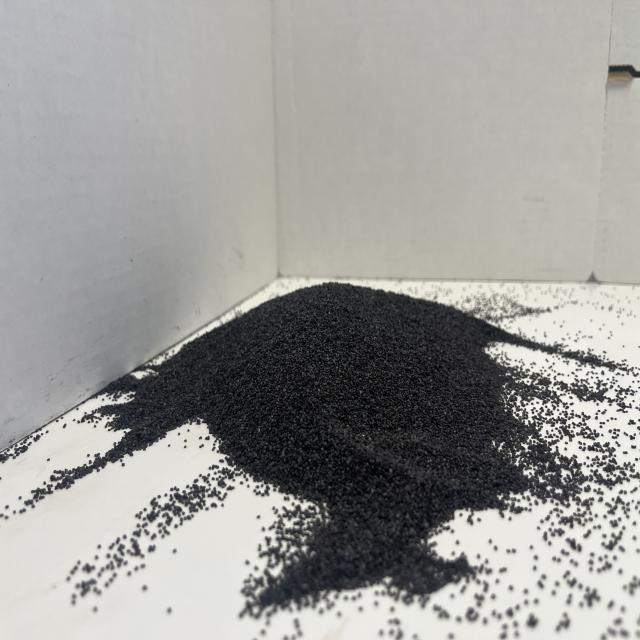Poppy Seeds: (105, 246, 568, 596)
